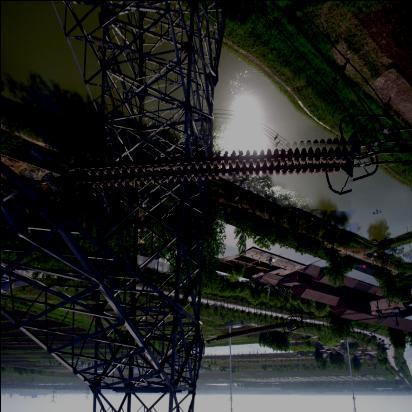insulator: (69, 131, 355, 206)
